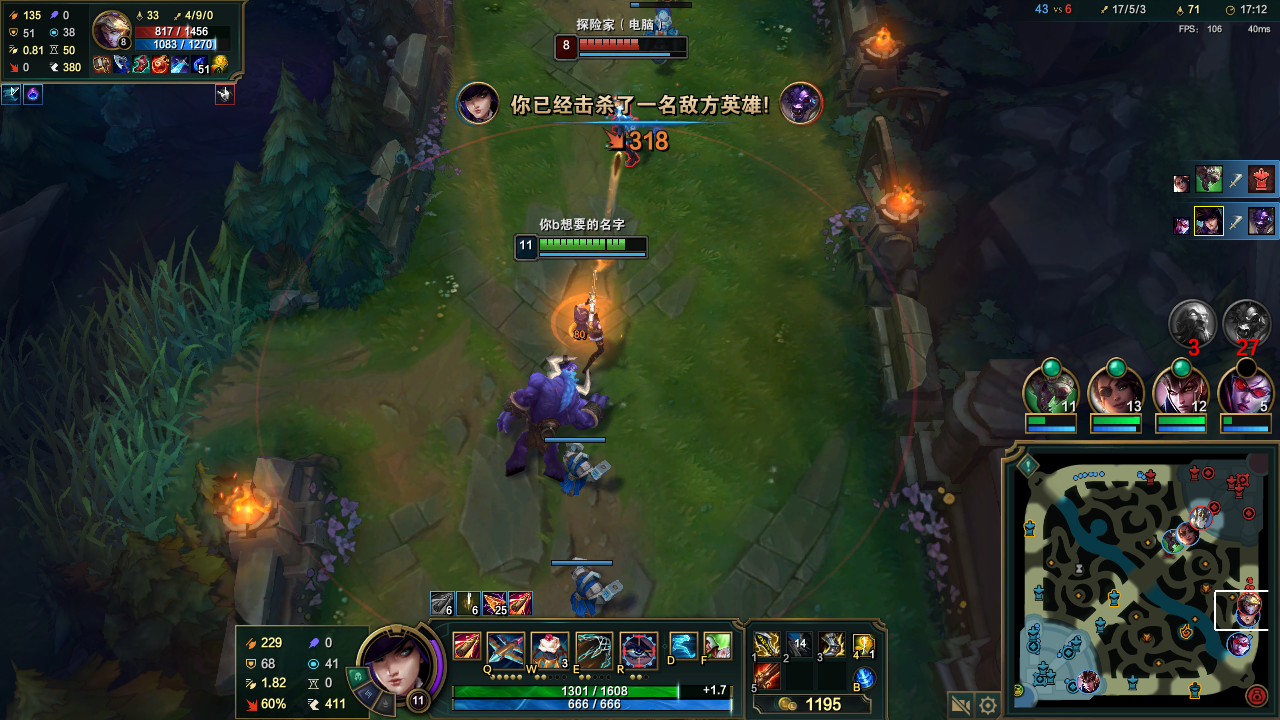DFYX: (573, 38, 690, 52)
WFXB: (553, 446, 599, 497), (564, 569, 619, 609), (649, 13, 683, 37)
